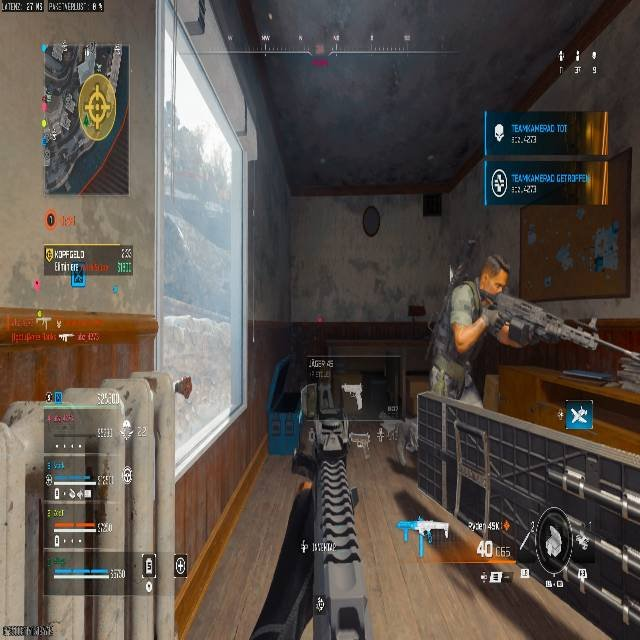head: (478, 255, 510, 295)
player: (428, 254, 552, 402)
